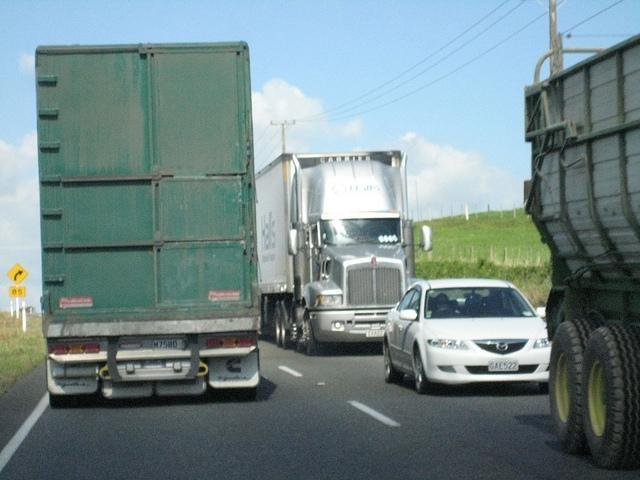car: (383, 278, 551, 395)
truck: (35, 42, 264, 403), (524, 33, 640, 469), (255, 153, 430, 358)
